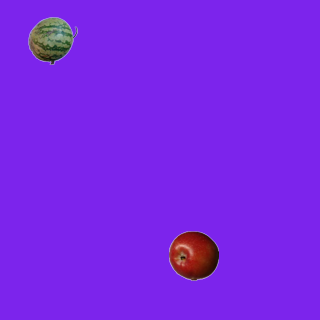Apple Braeburn: (168, 230, 218, 280)
Watermelon: (27, 15, 77, 65)
